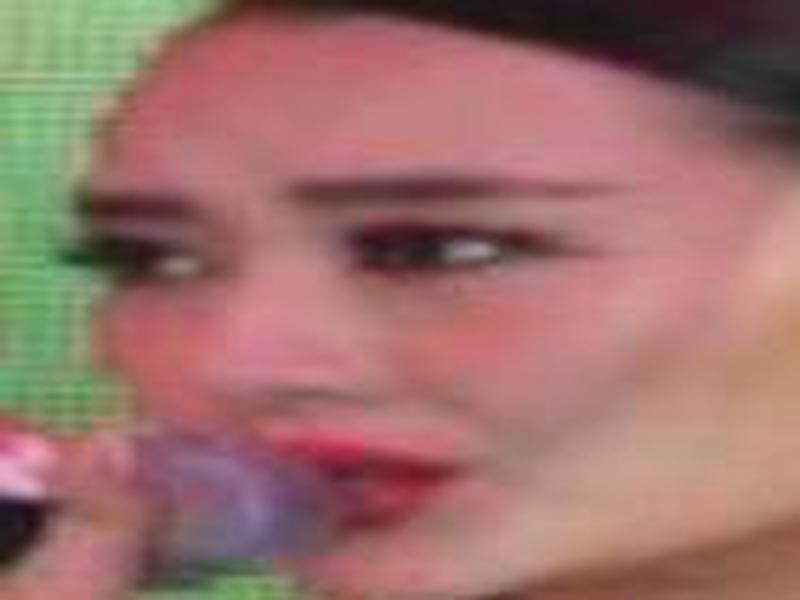without_mask: (61, 46, 734, 591)
